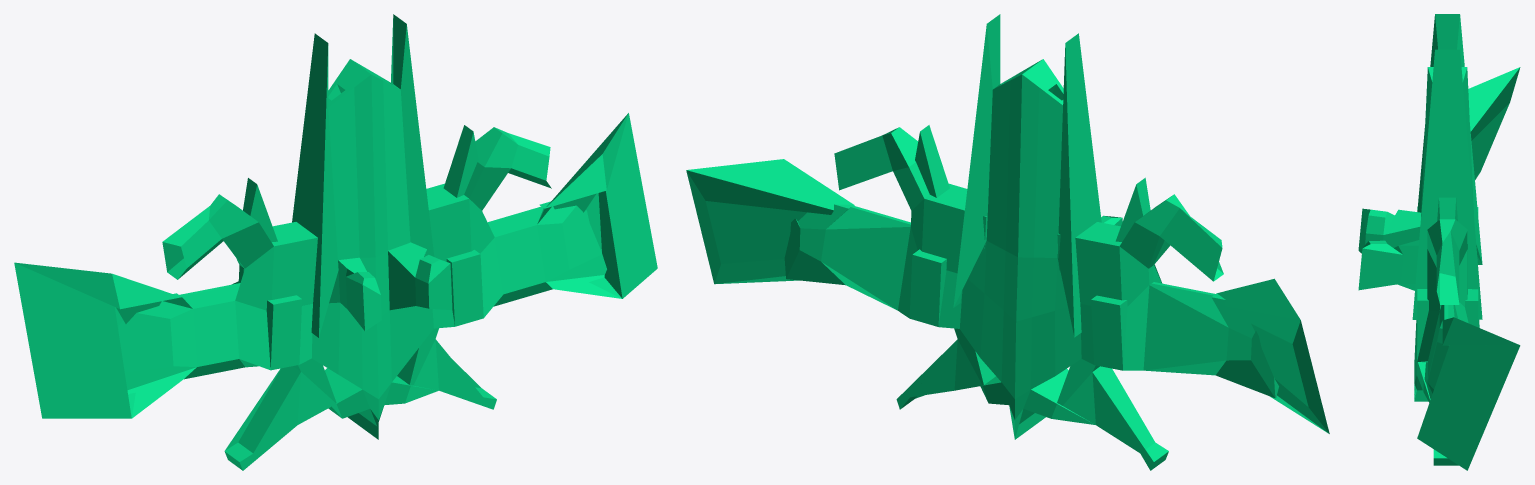
Rendered from 1ship.fbx.
The picture shows the model from 3 angles, left to right: view 1: azimuth 30°, elevation 25°; view 2: azimuth 150°, elevation 25°; view 3: azimuth 270°, elevation 25°; orthographic projection. The views are drawn at different scales.
Visible parts, largest first — view 1: Cube.002; view 2: Cube.002; view 3: Cube.002.
Part boxes in pixels (x1,y1,x2,y2): Cube.002: (14,14,657,470); Cube.002: (686,14,1329,470); Cube.002: (1358,14,1520,470).
Bounding box in the file's own units: 992 × 244 × 626.
